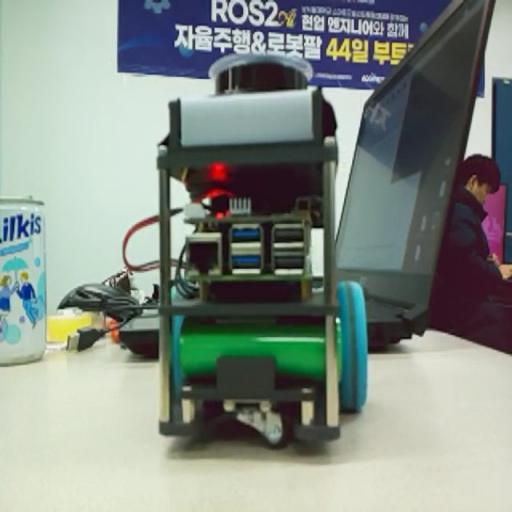pinky_63: (155, 50, 370, 452)
